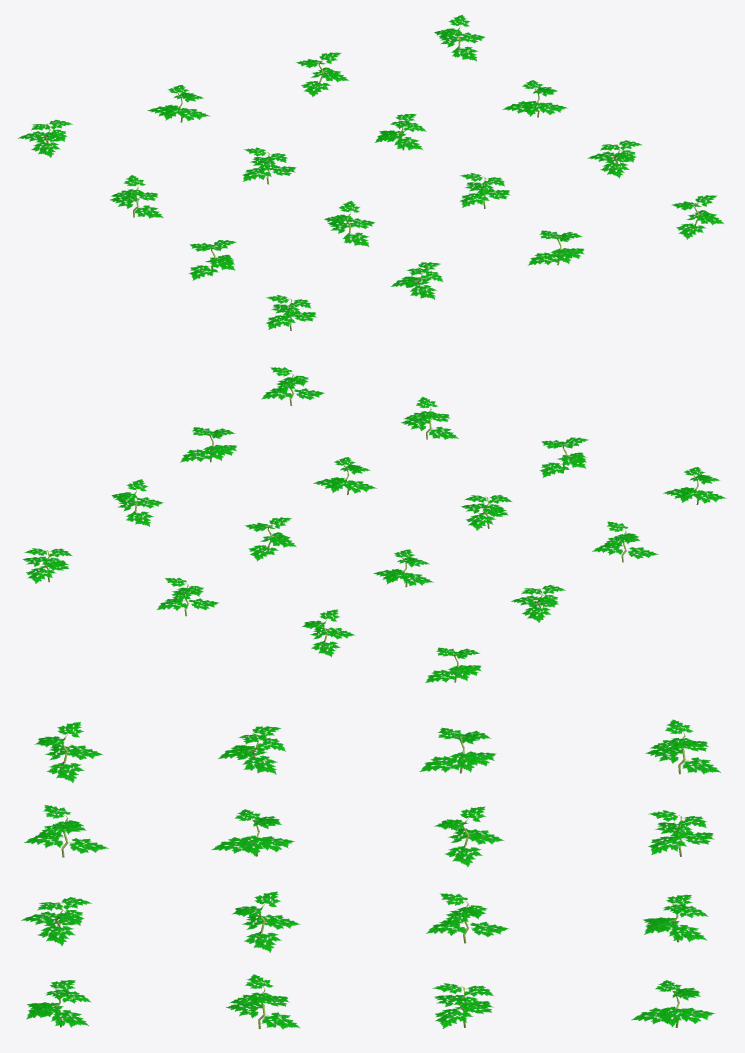
File: tomato_0.glb
3 views of the same model, one above another, from view 1: azimuth 30°, elevation 25°; view 2: azimuth 150°, elevation 25°; view 3: azimuth 270°, elevation 25° (orthographic). The views are drawn at different scales.
Parts seen in each view (by area): view 1: Tomatoe_F1; view 2: Tomatoe_F1; view 3: Tomatoe_F1.
Part boxes in pixels (x1,y1,x2,y2): Tomatoe_F1: (18, 15, 723, 330); Tomatoe_F1: (22, 367, 726, 682); Tomatoe_F1: (21, 719, 720, 1029).
Size of the model in its own units: 1.86 by 0.1211 by 1.91.
Materials: 1 (1 with a texture image).
